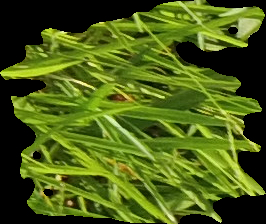grass: (1, 1, 265, 223)
